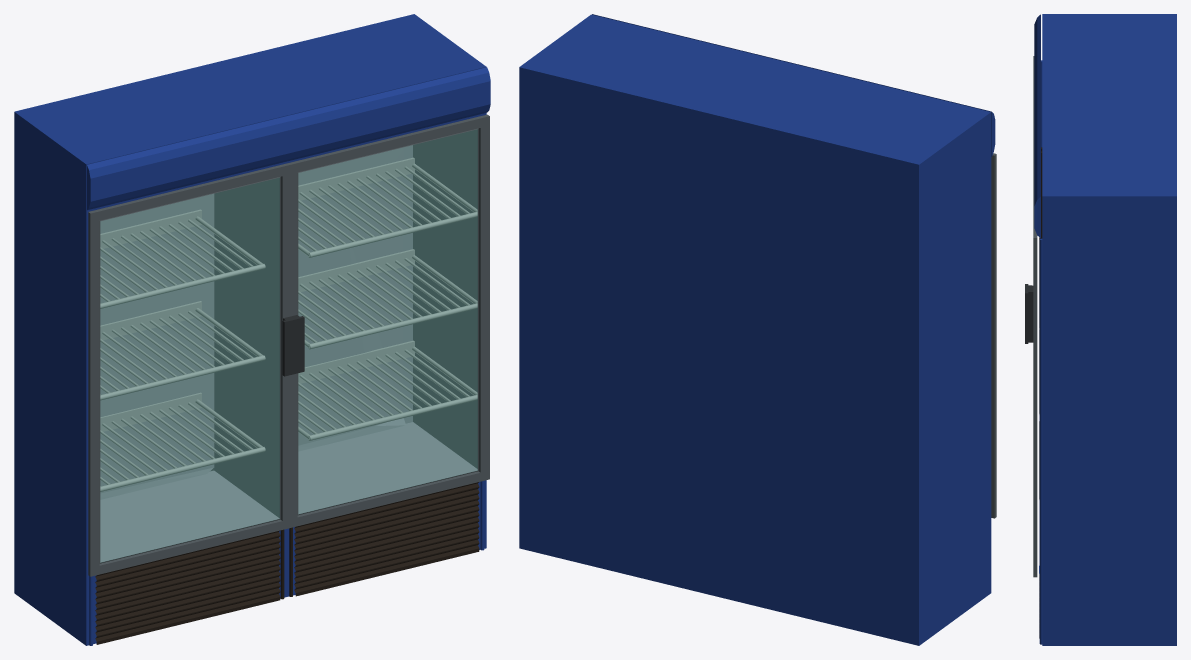
Rendered from SM_fridge_drinks_01.fbx.
The picture shows the model from 3 angles, left to right: view 1: azimuth 30°, elevation 25°; view 2: azimuth 150°, elevation 25°; view 3: azimuth 270°, elevation 25°; orthographic projection. The views are drawn at different scales.
Visible parts, largest first — view 1: fridge_drinks_01; view 2: fridge_drinks_01; view 3: fridge_drinks_01.
Boxes of the visible parts, box(x1,y1,x2,y2) form: fridge_drinks_01: box(14, 14, 490, 645); fridge_drinks_01: box(519, 14, 996, 645); fridge_drinks_01: box(1025, 14, 1176, 645).
Bounding box in the file's own units: 215 × 247 × 75.7.
